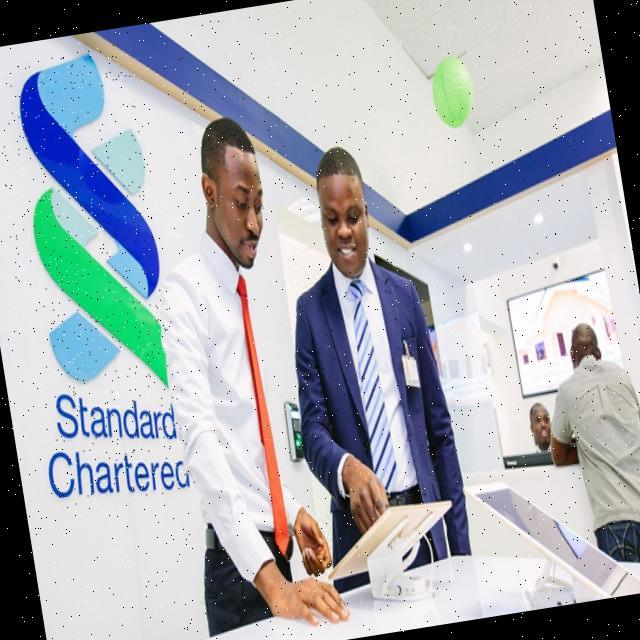Standard Chartered: (0, 44, 198, 511)
